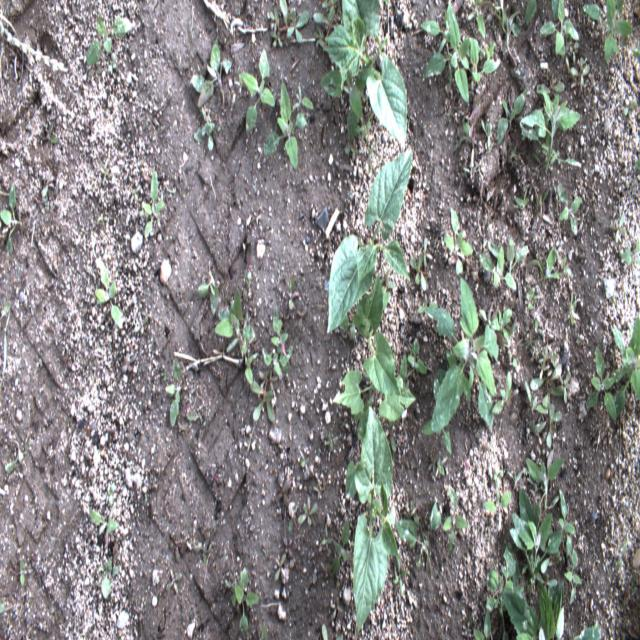crop: (326, 146, 414, 342), (316, 0, 411, 148), (342, 406, 400, 635), (423, 276, 504, 438), (473, 554, 605, 637), (328, 331, 419, 420), (504, 456, 566, 584), (564, 546, 578, 602)
weed: (417, 6, 498, 115), (522, 84, 581, 198), (260, 78, 318, 181), (186, 37, 236, 154), (584, 319, 638, 421), (524, 350, 578, 440), (215, 286, 262, 381), (580, 1, 636, 64), (399, 496, 442, 576), (81, 17, 136, 74), (238, 47, 272, 138), (479, 240, 531, 295), (92, 261, 131, 334), (493, 3, 537, 61), (538, 1, 580, 52), (322, 522, 355, 586), (262, 313, 294, 379), (494, 94, 531, 150), (162, 344, 185, 434), (268, 0, 314, 44), (488, 357, 520, 416), (233, 568, 262, 633), (89, 485, 119, 547), (440, 210, 472, 268), (611, 205, 638, 272), (139, 174, 165, 241), (247, 378, 282, 426), (553, 182, 581, 241), (532, 247, 573, 286), (443, 490, 470, 548), (484, 470, 516, 518), (2, 183, 23, 254), (195, 264, 222, 318), (525, 289, 552, 340), (488, 303, 520, 344), (403, 332, 429, 379), (412, 234, 432, 293), (275, 530, 292, 584), (95, 561, 116, 603), (321, 602, 345, 637), (570, 54, 592, 92), (16, 556, 34, 598), (479, 114, 494, 162), (168, 558, 186, 598), (282, 276, 300, 315), (454, 122, 478, 150), (195, 532, 215, 564), (465, 152, 484, 184), (316, 427, 342, 450), (298, 497, 319, 525), (39, 177, 61, 202), (8, 439, 25, 471), (569, 284, 579, 323)
